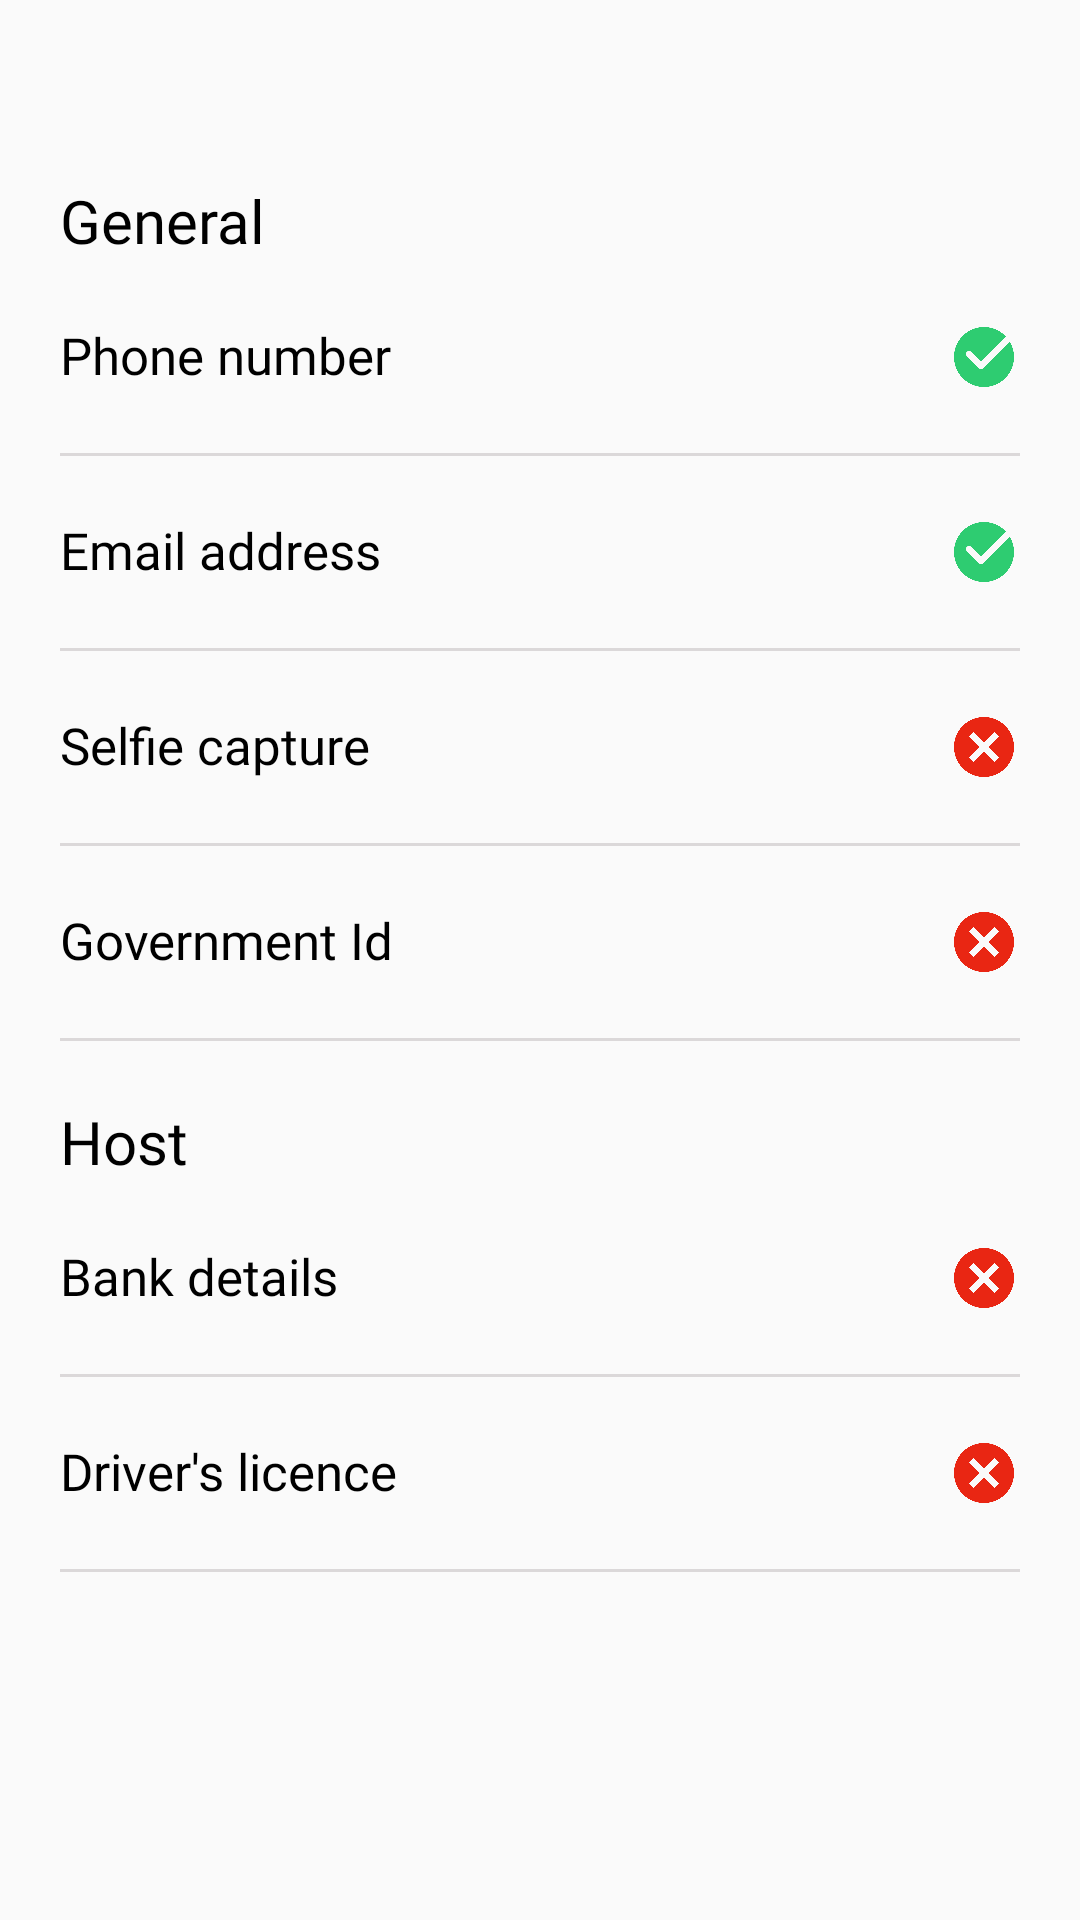

Icon click points for this 1080px x 1920px phone screenshot, format (x,y):
yes: (984,357)
